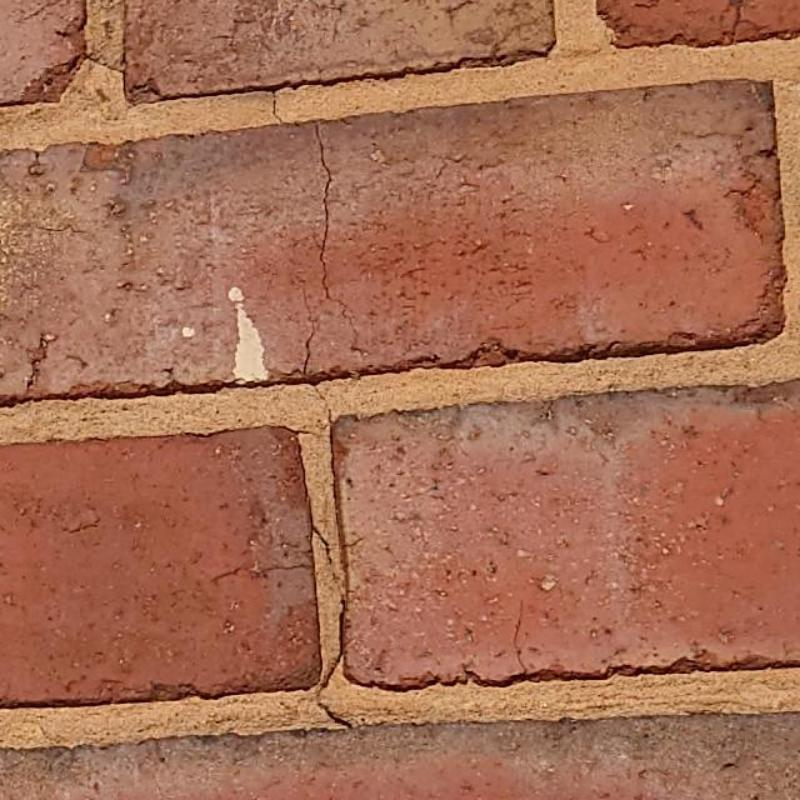pothole: (316, 125, 371, 358), (315, 599, 353, 730), (514, 600, 529, 679), (82, 54, 126, 75), (264, 88, 289, 124), (310, 385, 333, 423), (312, 525, 332, 566), (302, 331, 316, 376), (729, 6, 741, 44)
